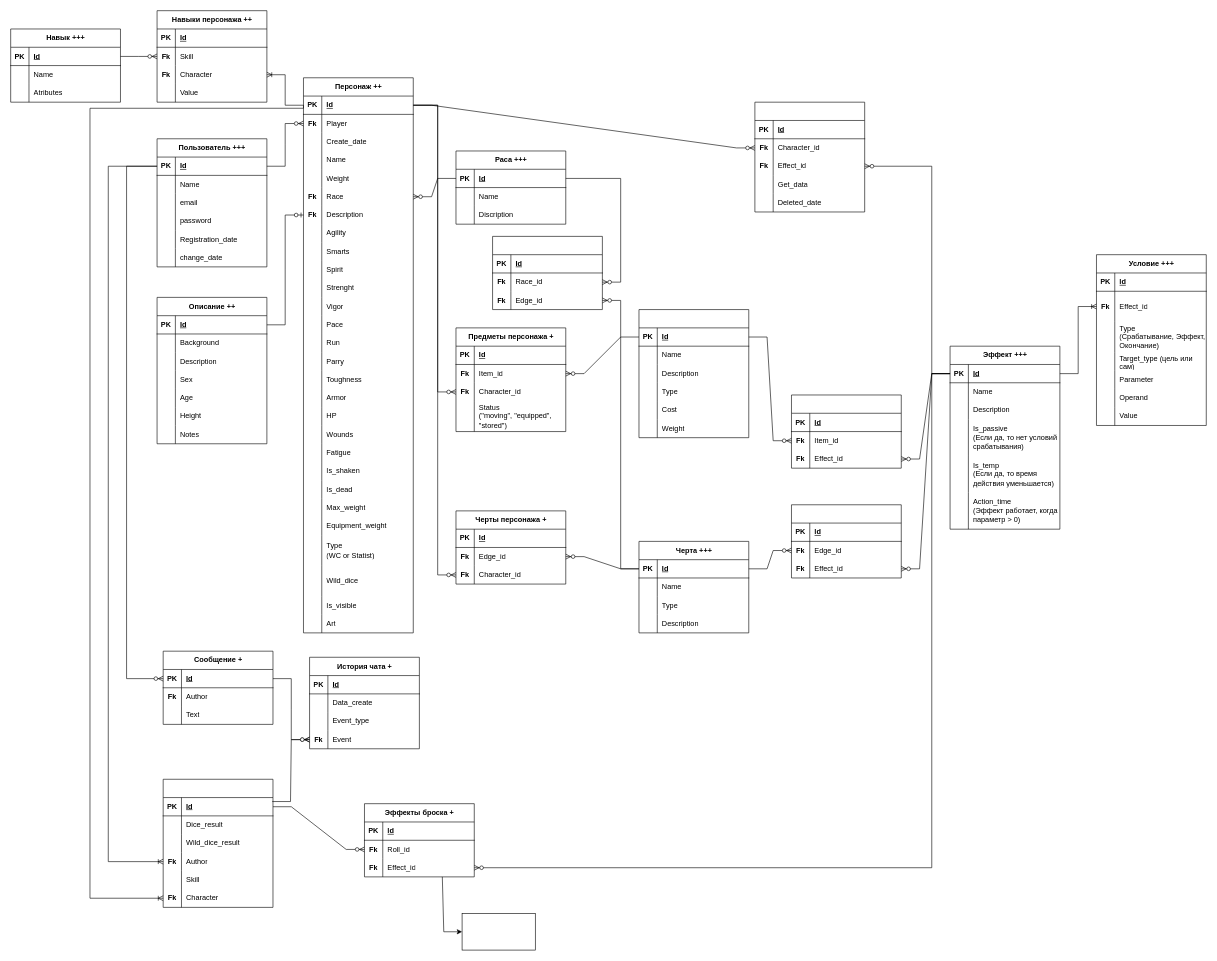
The diagram is 1217 pixels wide and 961 high, and some of its shapes have lost their labels. Each missing label, with the box of its shape:
*Активные эффекты, которые влияли на бросок: (461, 913, 535, 950)
Бросок +: (163, 779, 273, 907)
Лог выданных эффектов +: (754, 102, 865, 212)
Предмет +++: (638, 309, 749, 438)
Расовые черты +++: (492, 236, 602, 310)
Эффекты предмета +++: (791, 394, 901, 468)
Эффекты Черты +++: (791, 504, 901, 578)
